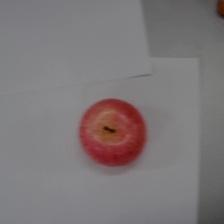red: (78, 96, 148, 168)
